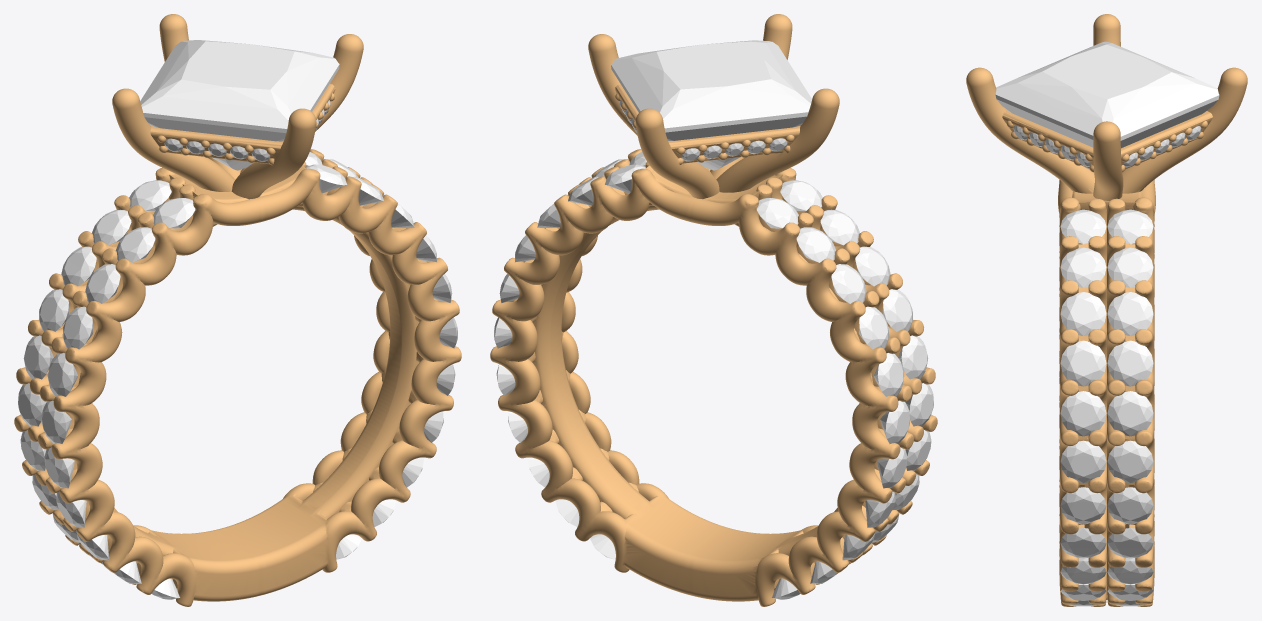
The picture shows the model from 3 angles, left to right: view 1: azimuth 30°, elevation 25°; view 2: azimuth 150°, elevation 25°; view 3: azimuth 270°, elevation 25°; orthographic projection.
Size of the model in its own units: 2.36 by 2.89 by 1.45.
